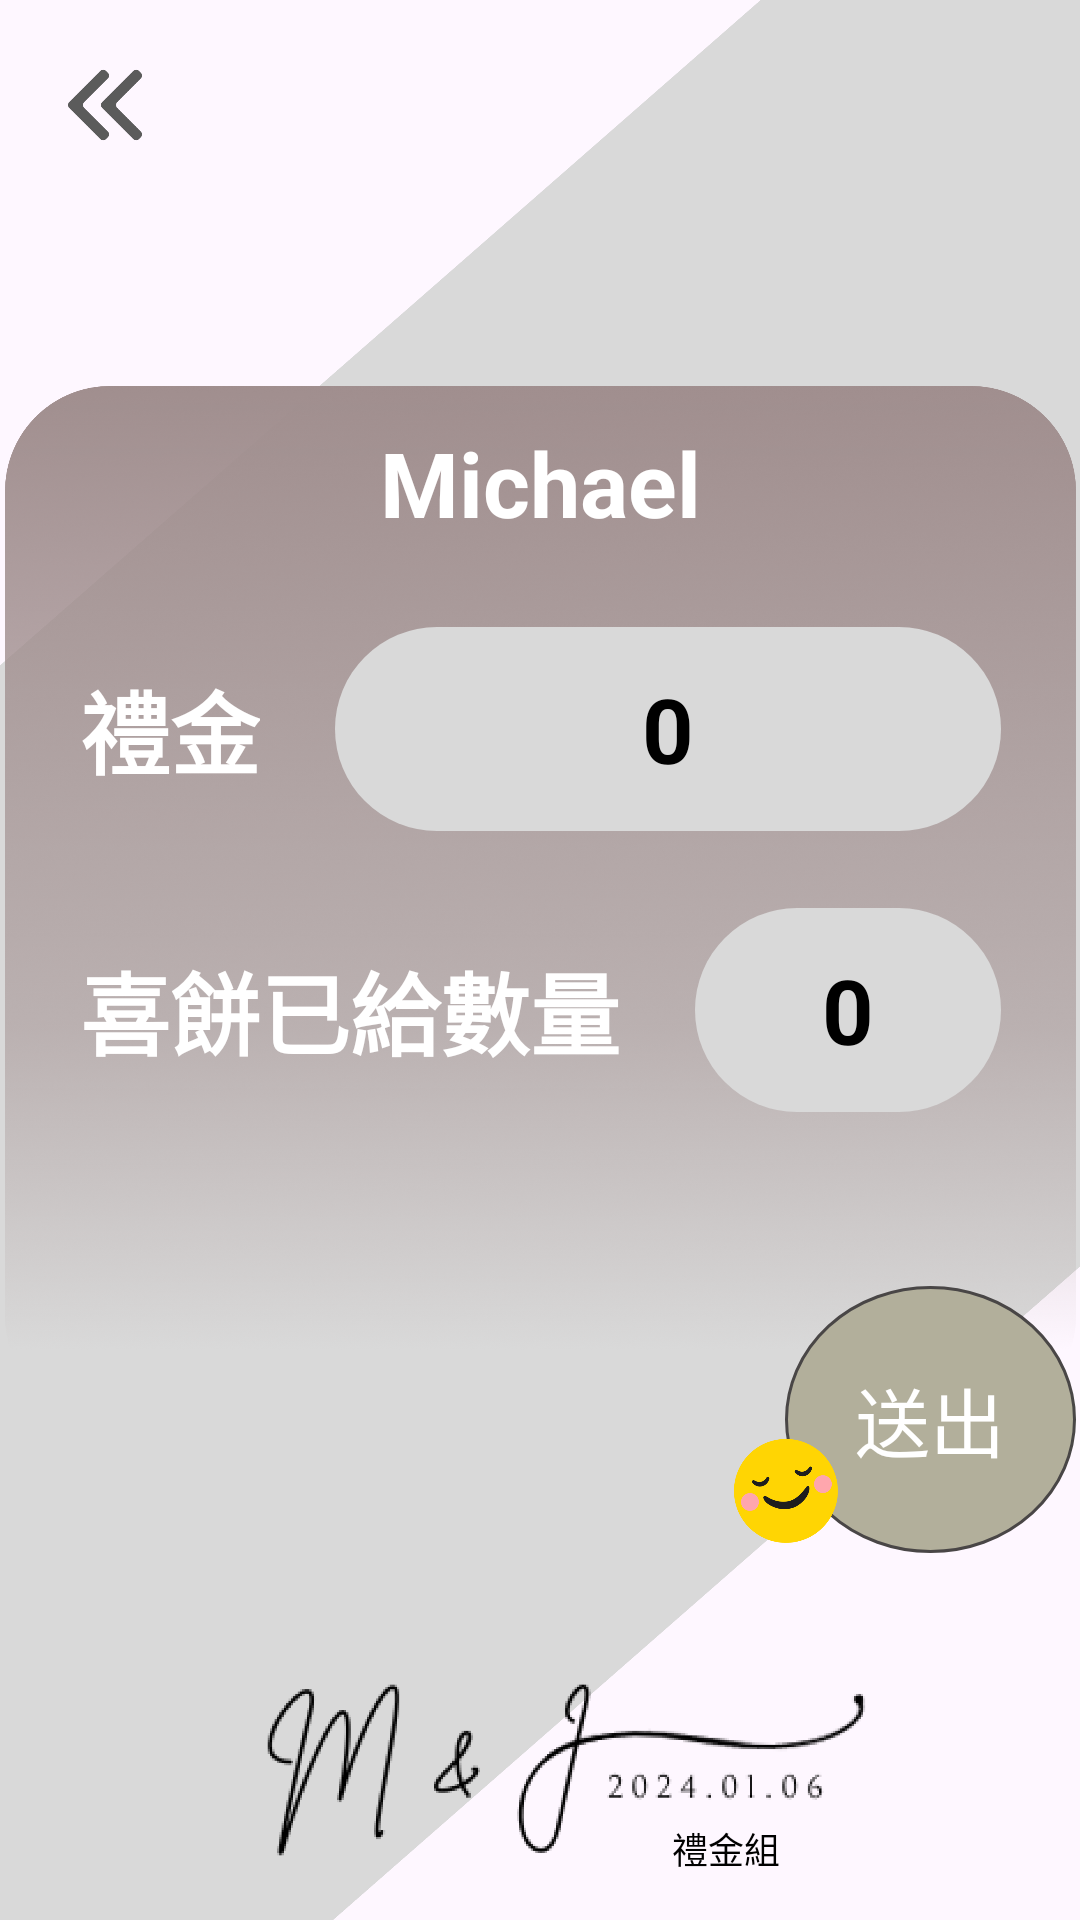

Icon click points for this 1080 × 1920 phone screenshot, format (x,y):
back: (105,105)
